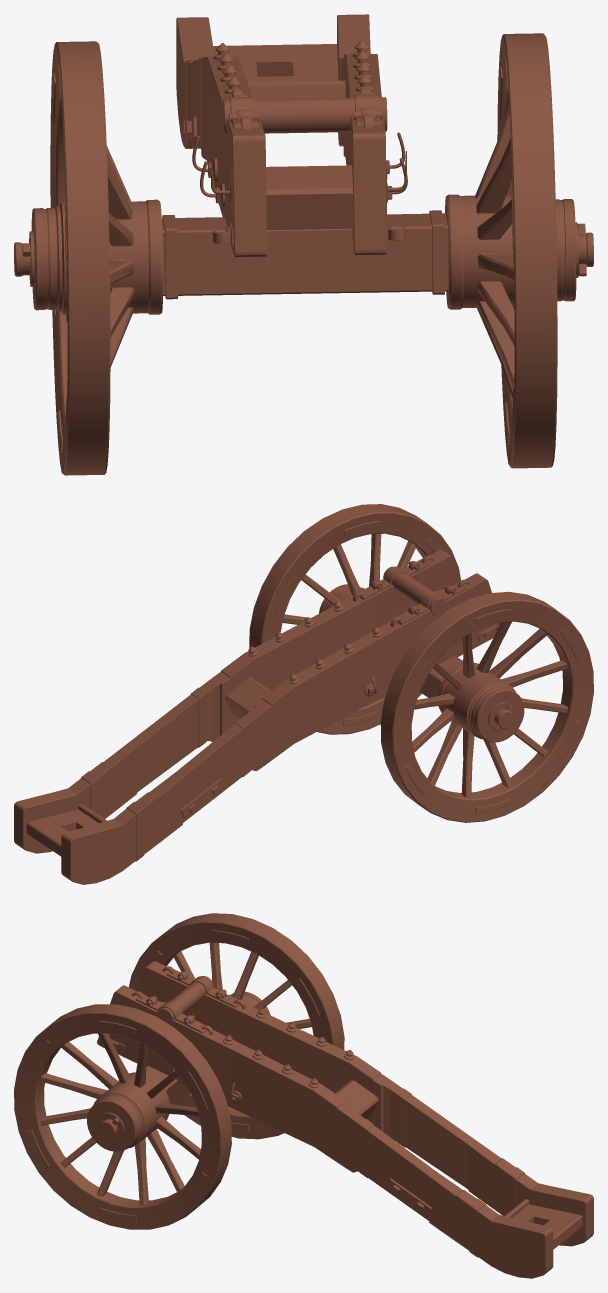
Rendered from Cannon_2_Alt.fbx.
3 views of the same model, one above another, from view 1: azimuth 30°, elevation 25°; view 2: azimuth 150°, elevation 25°; view 3: azimuth 270°, elevation 25° (orthographic). The views are drawn at different scales.
Parts seen in each view (by area): view 1: Cannon_2_alt; view 2: Cannon_2_alt; view 3: Cannon_2_alt.
Part boxes in pixels (x1,y1,x2,y2): Cannon_2_alt: [14, 14, 593, 475]; Cannon_2_alt: [14, 504, 593, 884]; Cannon_2_alt: [14, 913, 593, 1278].
Bounding box in the file's own units: 20.34 × 11.27 × 27.84.
